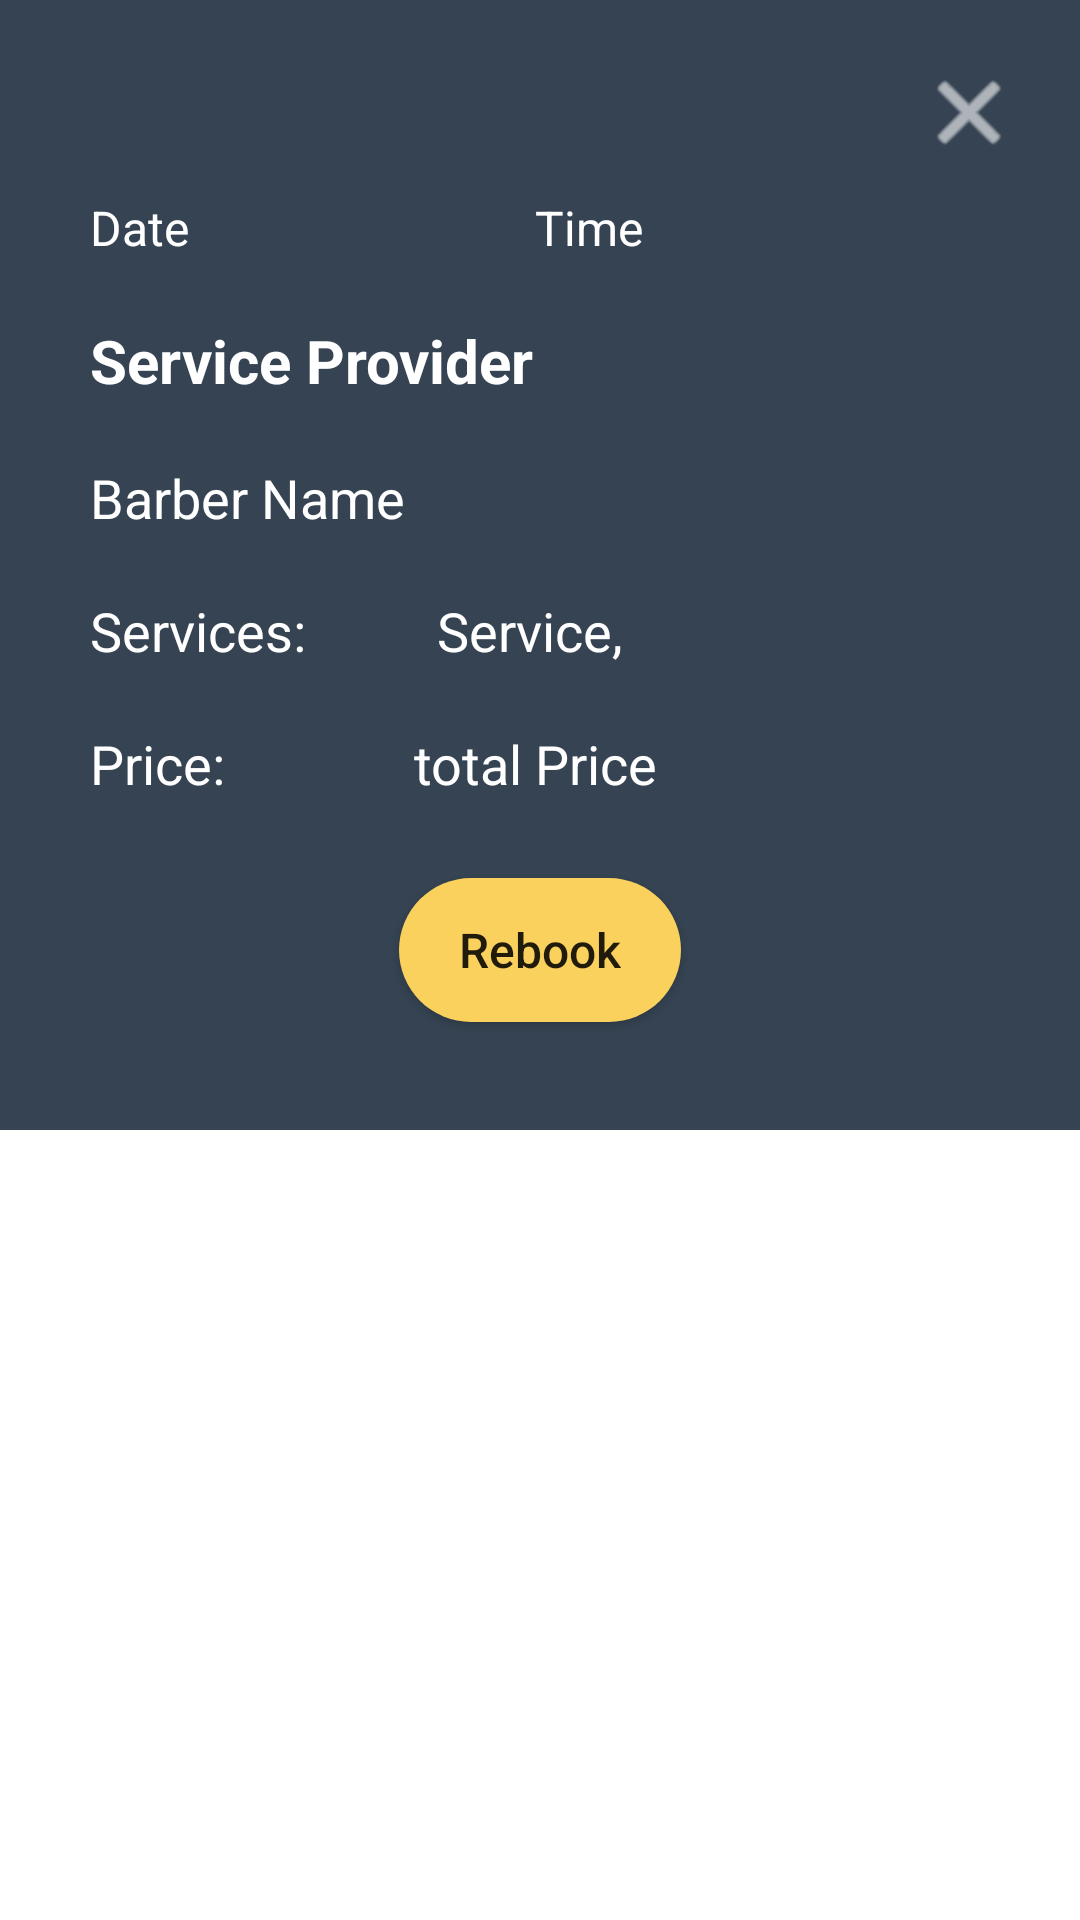

Icons on this 1080 x 1920 Android screen, each with the point to tap as point (x, y):
close clear cancel: point (969, 112)
